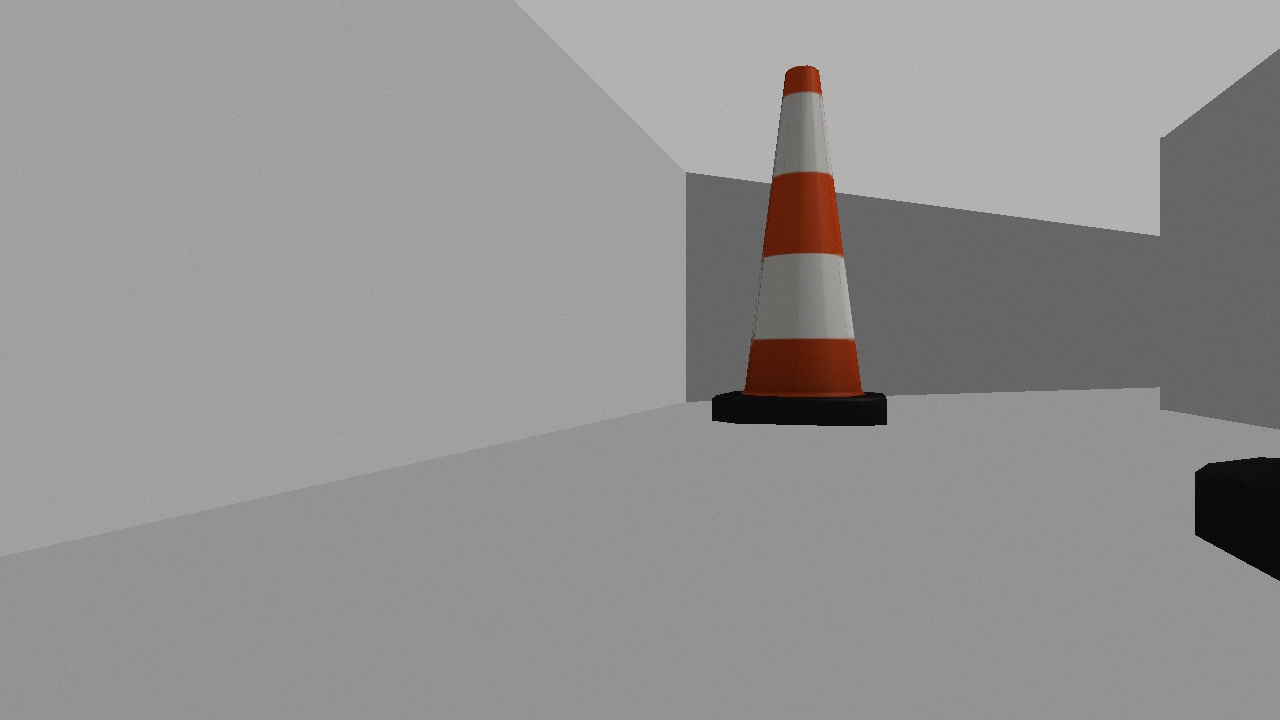barricade: (698, 53, 907, 435)
